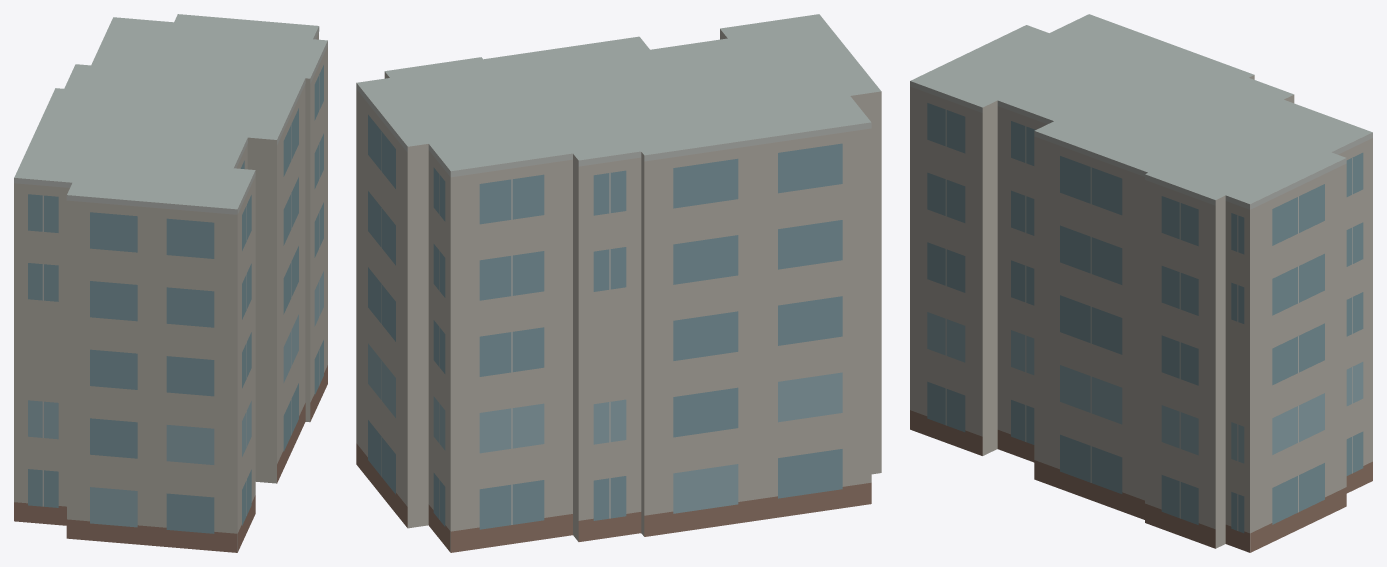
File: survey-upis-32726207.glb
3 views of the same model, side by side, from view 1: azimuth 30°, elevation 25°; view 2: azimuth 150°, elevation 25°; view 3: azimuth 270°, elevation 25° (orthographic). The views are drawn at different scales.
Visible parts, largest first — view 1: survey-upis-32726207.tmp; view 2: survey-upis-32726207.tmp; view 3: survey-upis-32726207.tmp.
Part boxes in pixels (left/top/right/bottom): survey-upis-32726207.tmp: left=14, top=14, right=327, bottom=552; survey-upis-32726207.tmp: left=356, top=14, right=881, bottom=552; survey-upis-32726207.tmp: left=910, top=14, right=1372, bottom=552.
Size of the model in its own units: 17.92 by 15.3 by 18.42.
